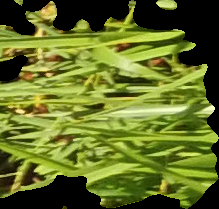grass: (1, 1, 218, 208)
